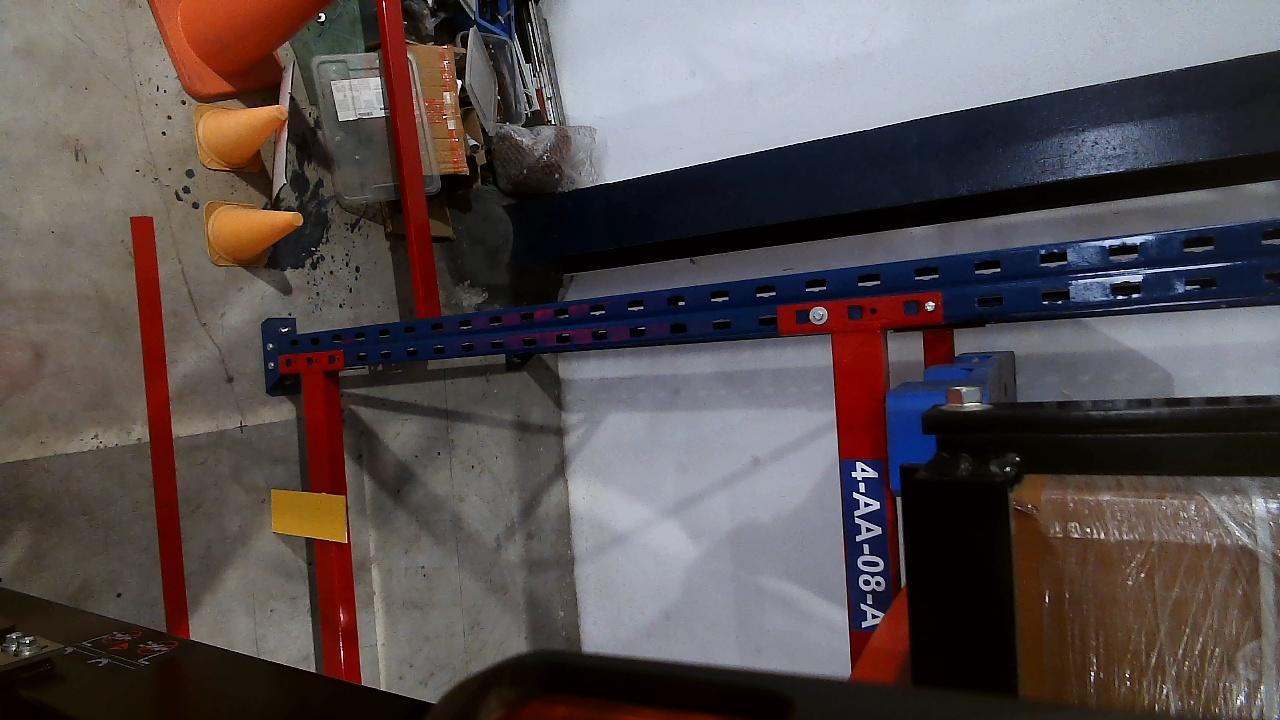h_rack: (829, 326, 912, 681), (300, 370, 351, 673)
orange_strip: (270, 488, 348, 541)
red_line: (130, 216, 188, 636)
